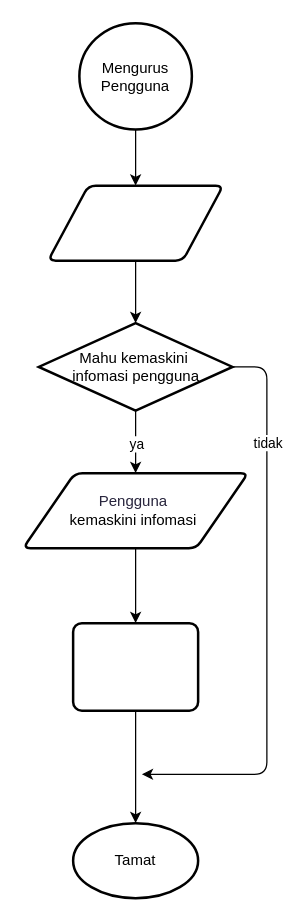
Image size: 304x920. Some labels were removed from this diagram. Here are the shapes that lost their labels. From the top down, the centre of each, then its label:
At pixel 135 222: "Paparan infomasi pengguna".
At pixel 135 666: "Kemaskin infomasi pengguna".
